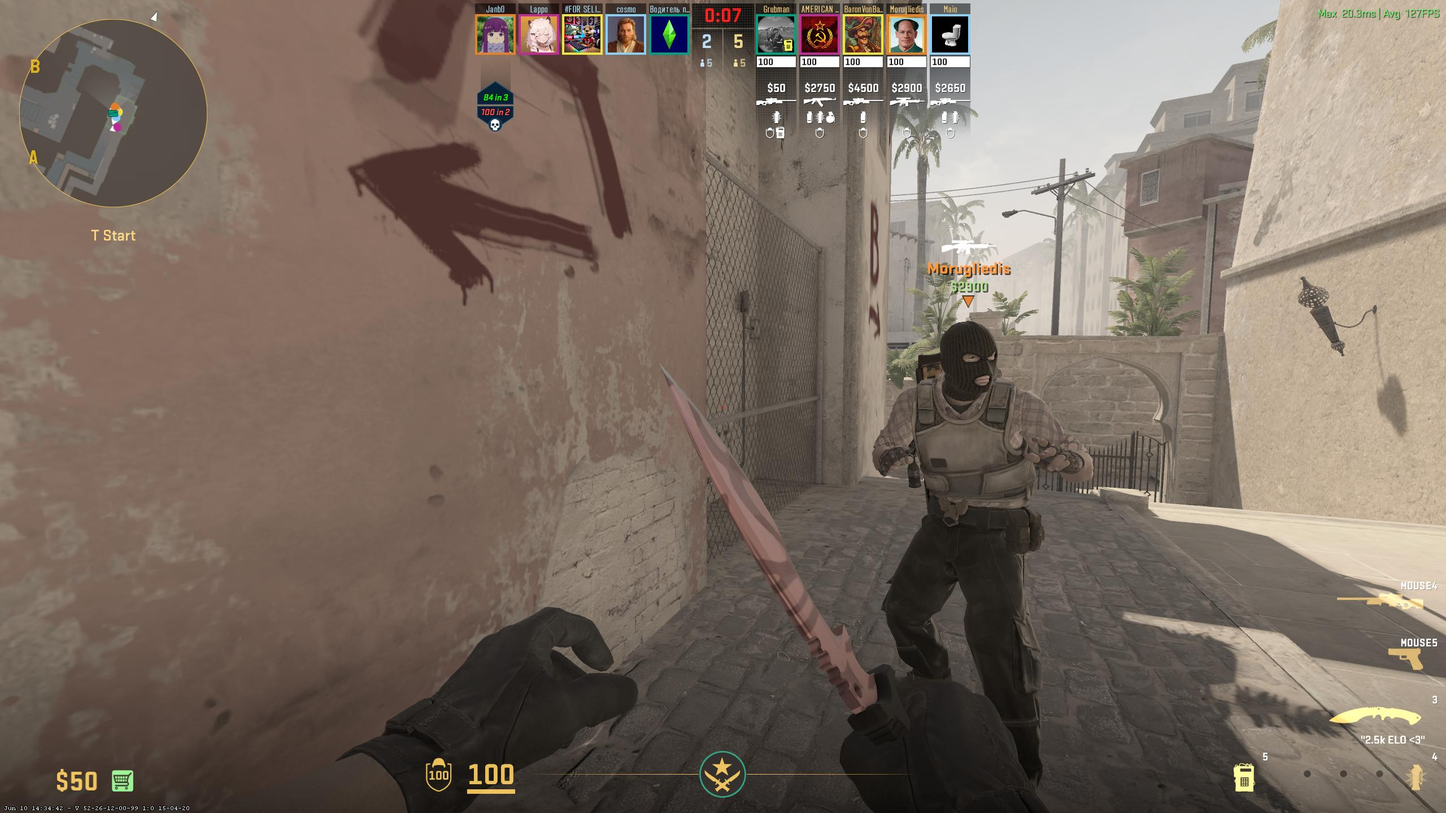Terrorist: (892, 331, 1072, 783)
